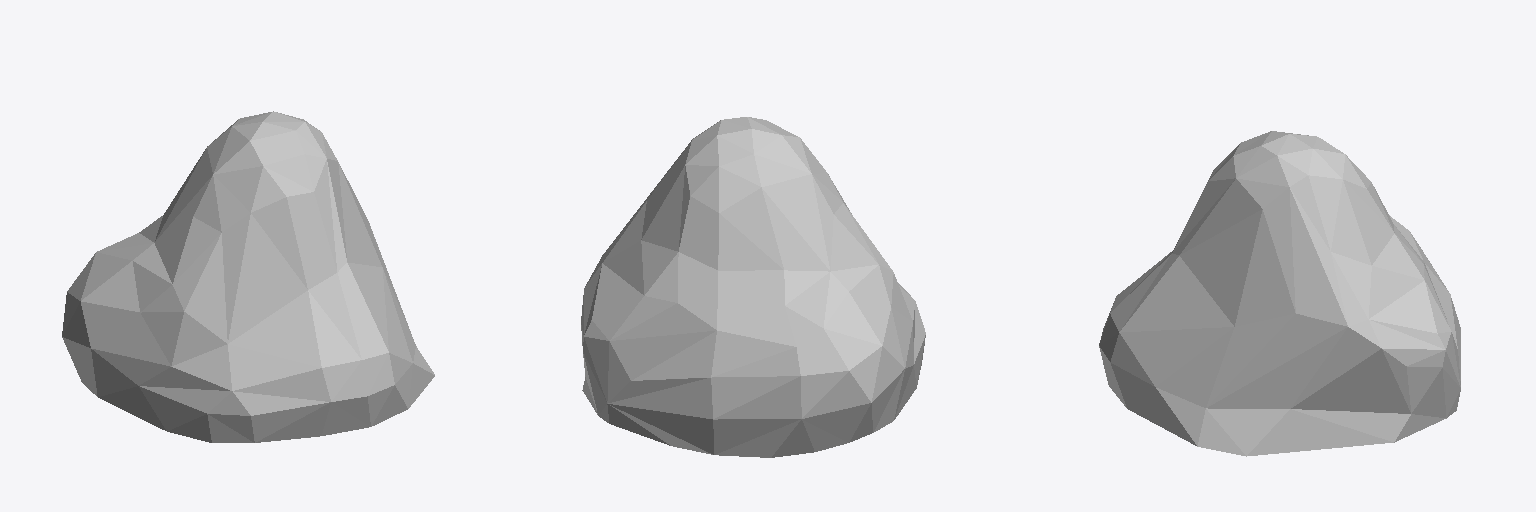
Rendered from stone41.obj.
The picture shows the model from 3 angles: view 1: azimuth 30°, elevation 25°; view 2: azimuth 150°, elevation 25°; view 3: azimuth 270°, elevation 25°; orthographic projection.
Parts seen in each view (by area): view 1: stone4_Group1.003; view 2: stone4_Group1.003; view 3: stone4_Group1.003.
Boxes of the visible parts, x1=… form: stone4_Group1.003: x1=62, y1=111, x2=434, y2=442; stone4_Group1.003: x1=581, y1=117, x2=925, y2=457; stone4_Group1.003: x1=1099, y1=131, x2=1460, y2=456.
Size of the model in its own units: 2.76 by 2.23 by 2.86.